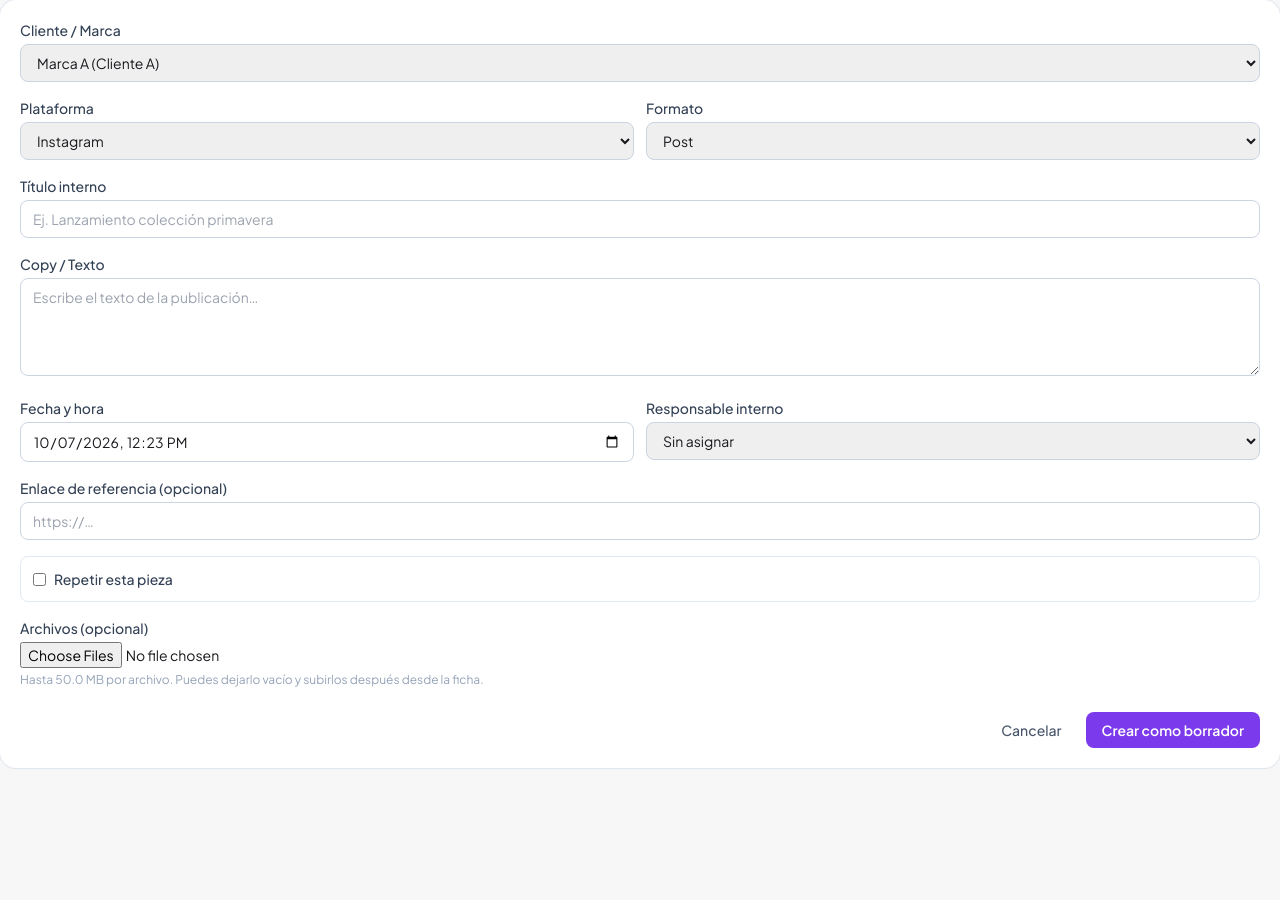
Test: ContentPieceForm — repetir esta pieza › al marcar "Repetir esta pieza", el resumen de fechas se actualiza con la cantidad elegida
The image size is (1280, 900).
Click the checkbox labelled "Repetir esta pieza".
click(40, 579)  # box [33,572,46,586]
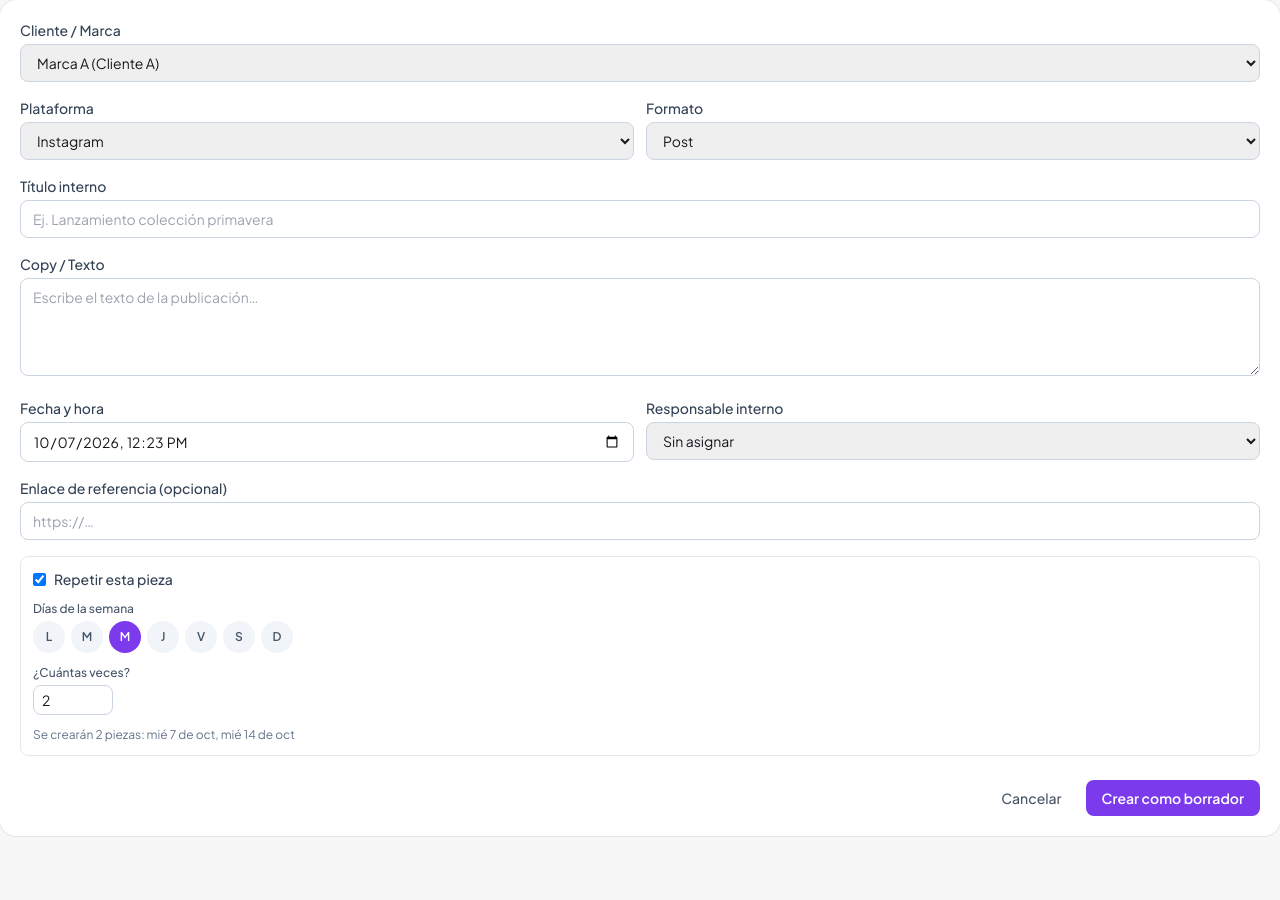
Now the text "¿Cuántas veces?" is shown, box [33,665,130,680]
Replace the text in the number field labelled "¿Cuántas veces?" with "3" at (73, 700), box [33,685,113,715]
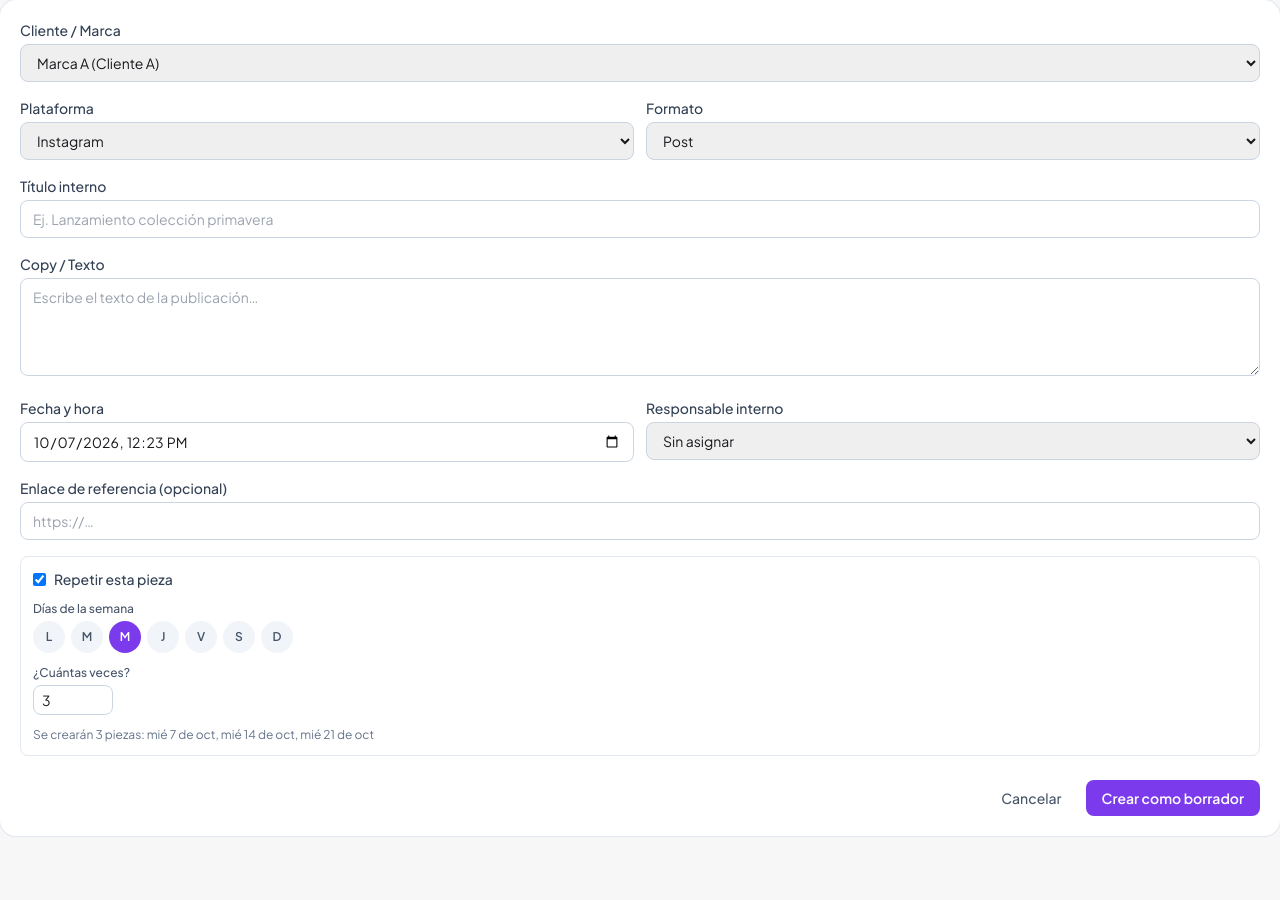
Now the text "Se crearán 3 piezas" is shown, box [33,727,374,742]
